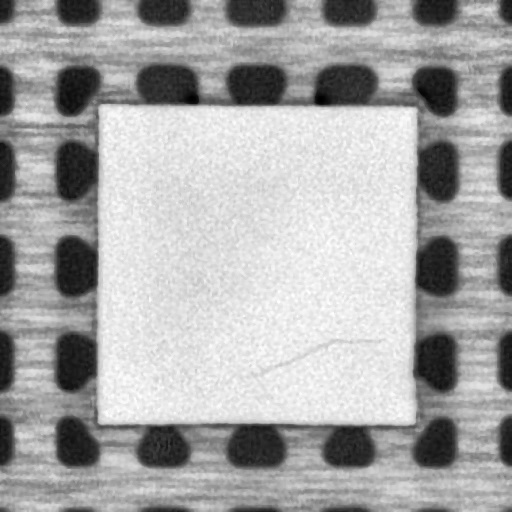DIE_CRACK: (248, 331, 380, 376)
